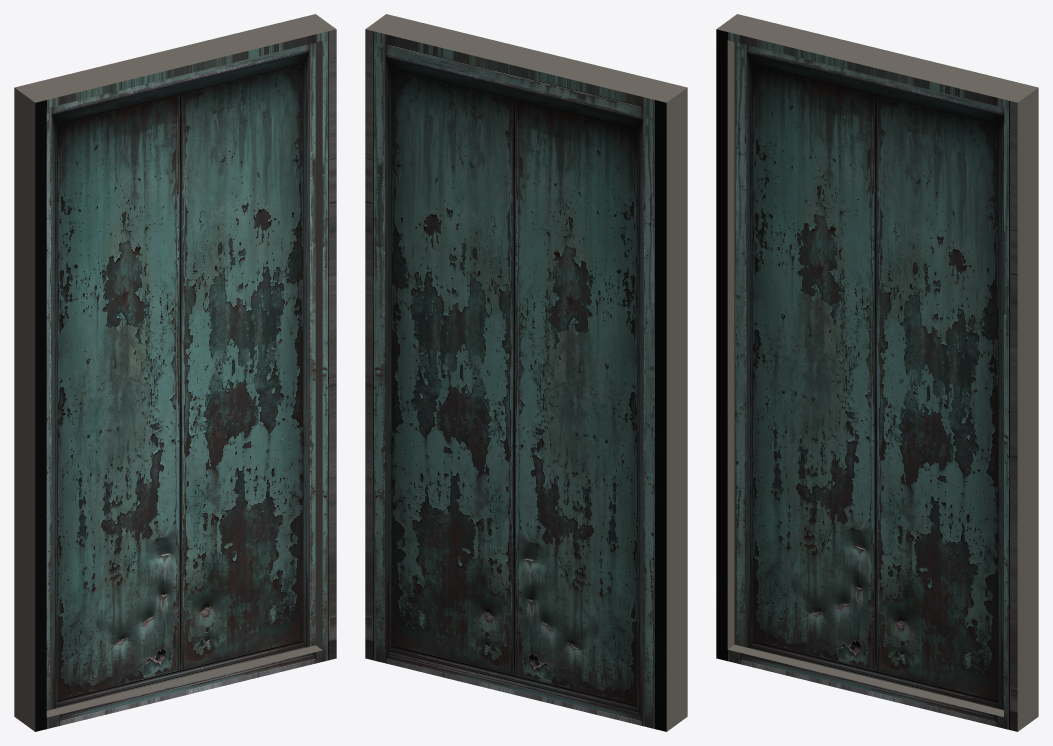
File: elevator-1-door.glb
3 views of the same model, side by side, from view 1: azimuth 30°, elevation 25°; view 2: azimuth 150°, elevation 25°; view 3: azimuth 330°, elevation 25° (orthographic).
Visible parts, largest first — view 1: door, frame-left, frame-right, frame-top, frame-bottom; view 2: door, frame-left, frame-right, frame-top, frame-bottom; view 3: door, frame-right, frame-left, frame-top, frame-bottom.
Part boxes in pixels (x1,y1,x2,y2): door: (46, 42, 315, 710); frame-left: (14, 84, 46, 731); frame-right: (302, 14, 336, 661); frame-top: (26, 17, 322, 107); frame-bottom: (46, 645, 322, 728); door: (379, 41, 655, 717); frame-left: (655, 84, 687, 731); frame-right: (365, 14, 399, 661); frame-top: (379, 17, 675, 107); frame-bottom: (379, 650, 655, 728); door: (734, 42, 1003, 710); frame-right: (1004, 84, 1038, 731); frame-left: (716, 14, 748, 660); frame-top: (727, 17, 1024, 107); frame-bottom: (727, 644, 1003, 728).
Size of the model in its own units: 0.9998 by 1.99 by 0.12.
Materials: 2 (1 with a texture image).
